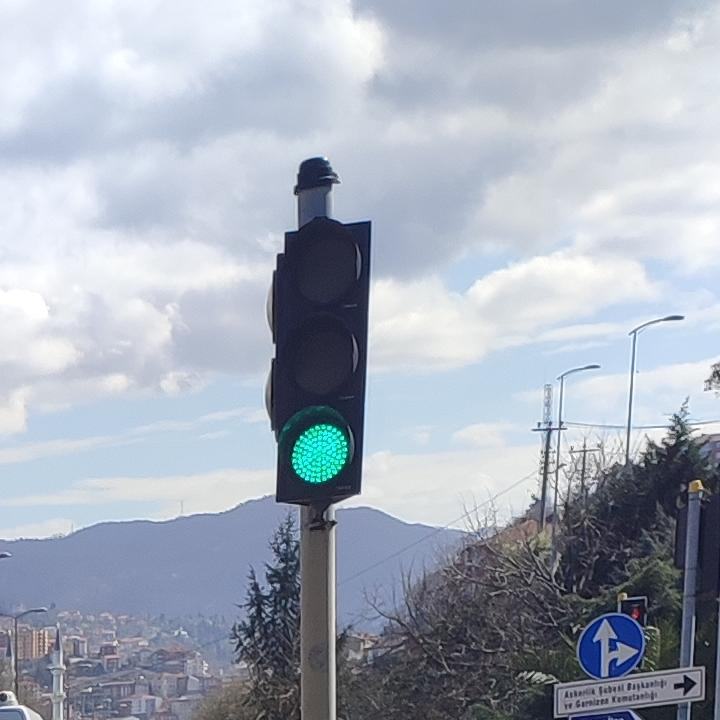green: (272, 211, 375, 502)
